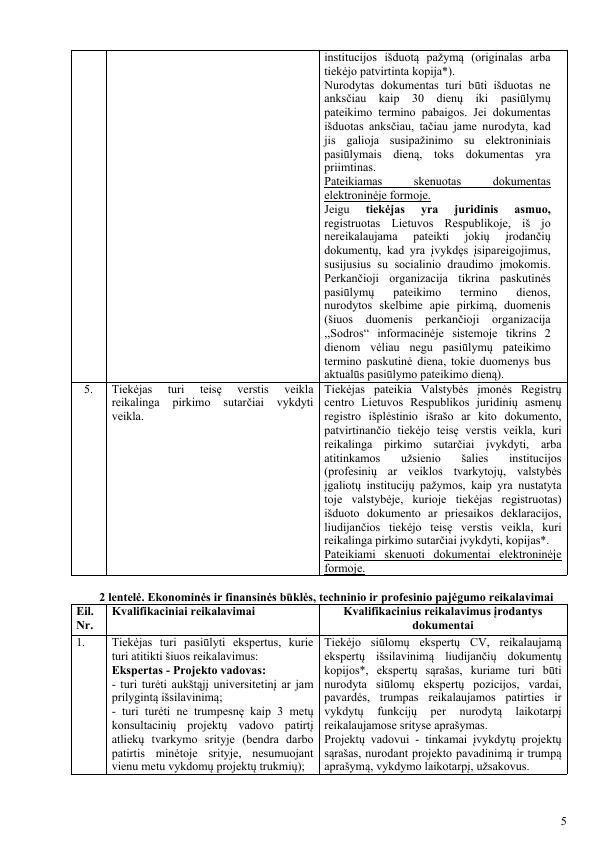table: (66, 46, 573, 576), (71, 603, 570, 776)
text: (101, 589, 560, 601)
